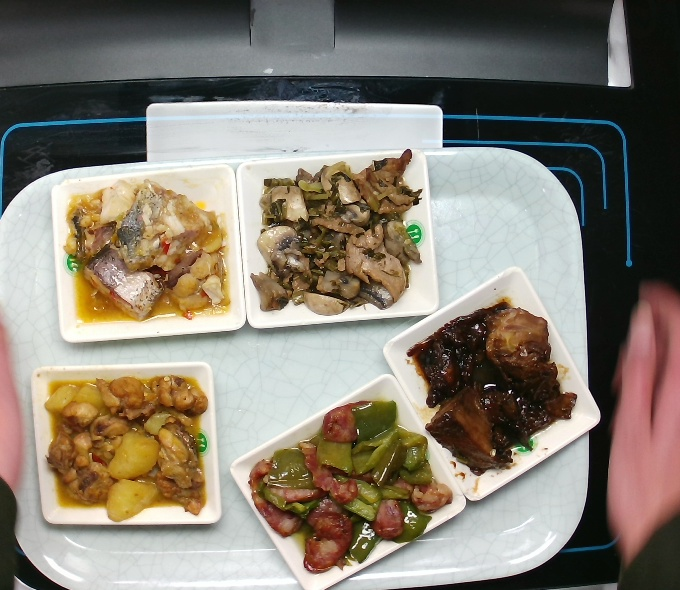wcq-DuoJiaoYuKuai: (62, 175, 237, 327)
wcq-JiangZhiYa: (404, 296, 582, 480)
wcq-MoGuRouPian: (246, 145, 428, 320)
wcq-QingJiaoXiangChang: (247, 399, 457, 575)
wcq-TuDouJiKuai: (40, 371, 210, 524)
